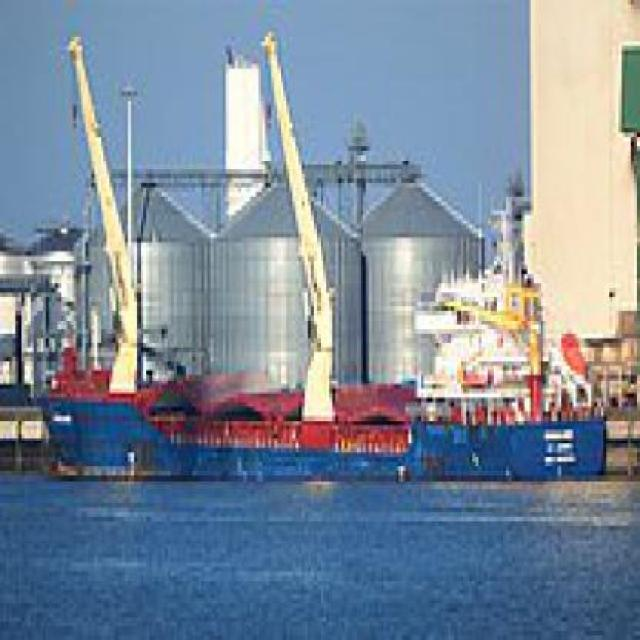container: (34, 184, 614, 495)
